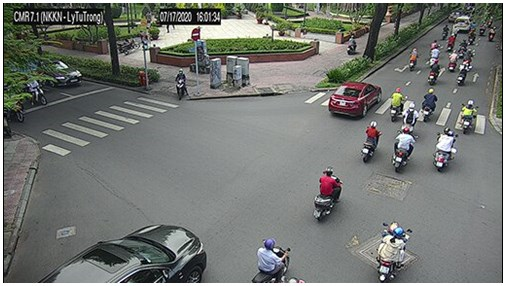xe_hoi: (329, 81, 383, 117), (43, 59, 84, 87), (453, 16, 472, 32), (448, 10, 464, 23)
xe_may: (375, 220, 410, 282), (252, 237, 291, 282), (313, 167, 343, 222), (432, 126, 459, 174), (360, 120, 382, 163), (393, 128, 413, 173), (459, 99, 479, 134), (25, 77, 48, 107), (421, 86, 438, 121), (401, 102, 420, 131), (174, 67, 189, 101), (390, 88, 404, 122), (118, 34, 139, 53), (427, 60, 440, 85), (457, 60, 469, 87), (346, 35, 358, 58), (447, 49, 458, 72), (11, 102, 24, 121), (409, 48, 419, 72), (464, 49, 475, 70), (447, 33, 458, 53), (459, 40, 469, 57), (487, 26, 495, 42), (431, 46, 438, 61), (442, 25, 449, 40), (468, 29, 476, 42), (478, 23, 486, 35), (470, 21, 477, 30), (431, 40, 438, 48)
